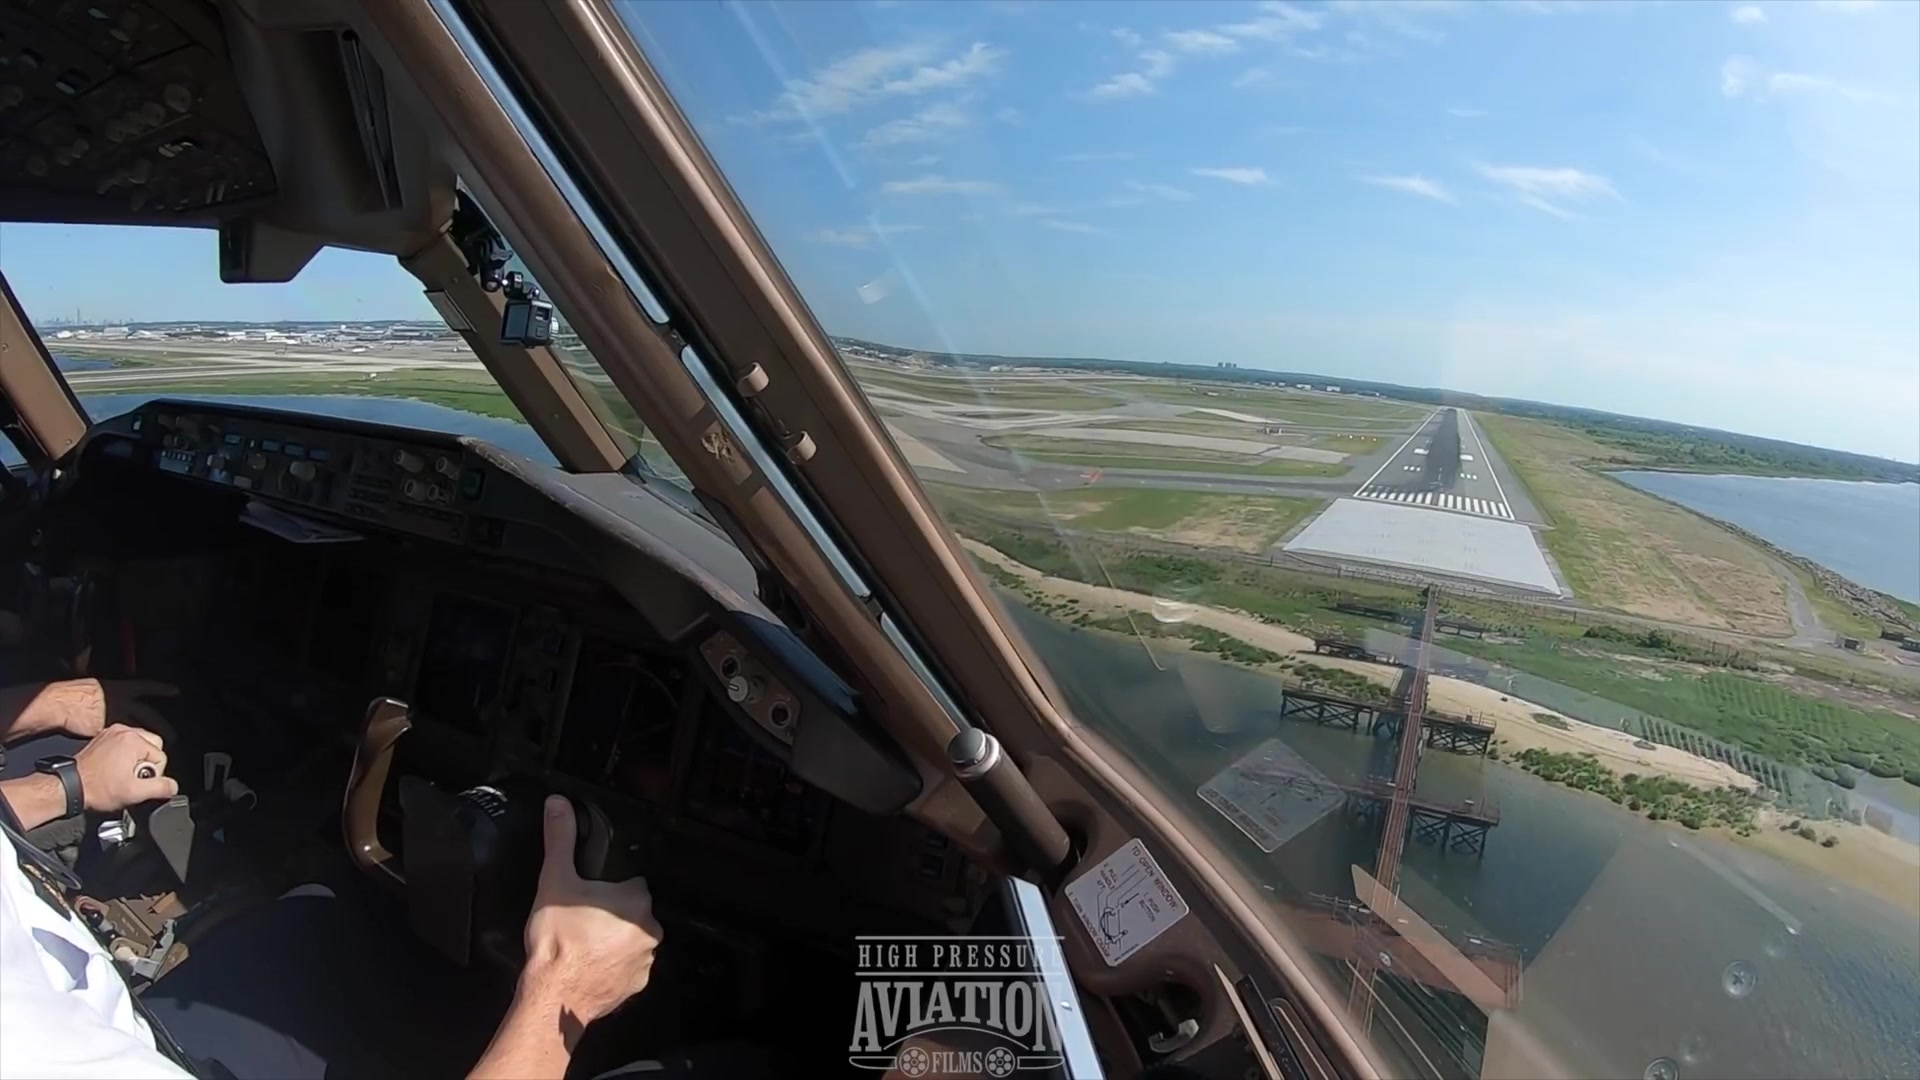entrance: (1358, 483, 1505, 517)
runway: (1352, 405, 1519, 524)
